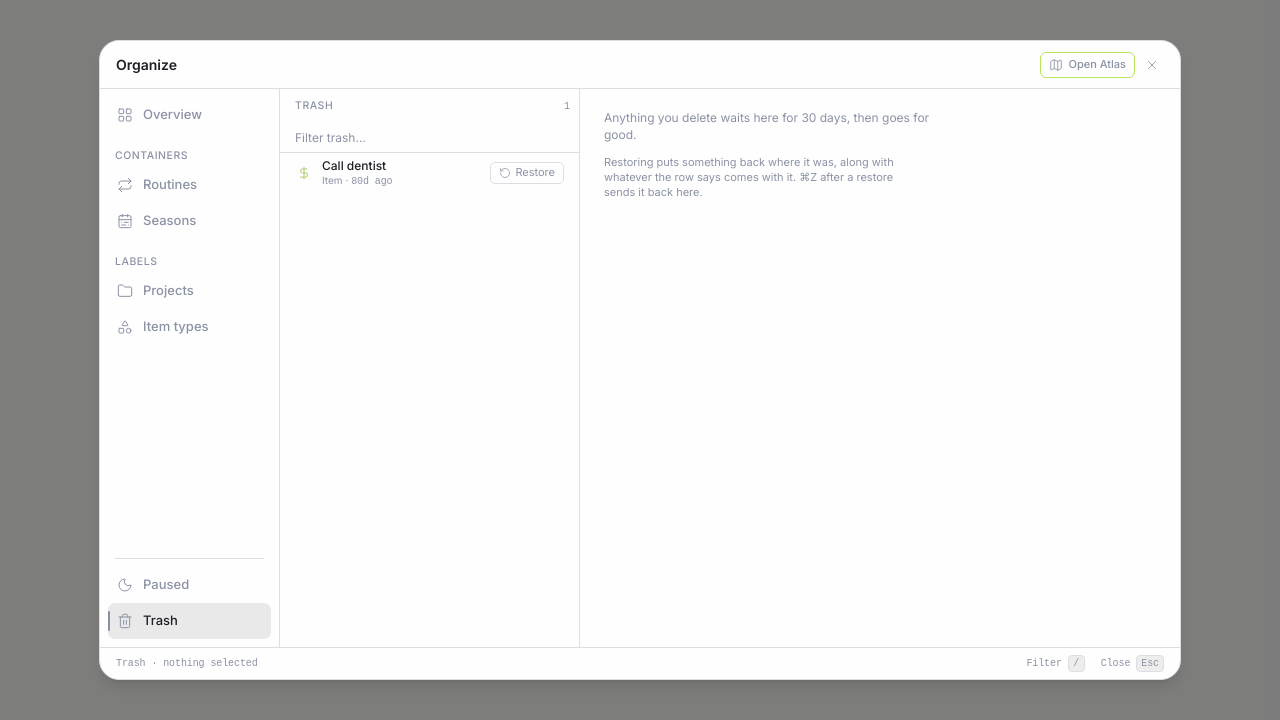
Test case: the Trash preview › opens a READ-ONLY preview when a row is selected
Click the button with test id "trash-select": (388, 172) x1=295 y1=157 x2=481 y2=188
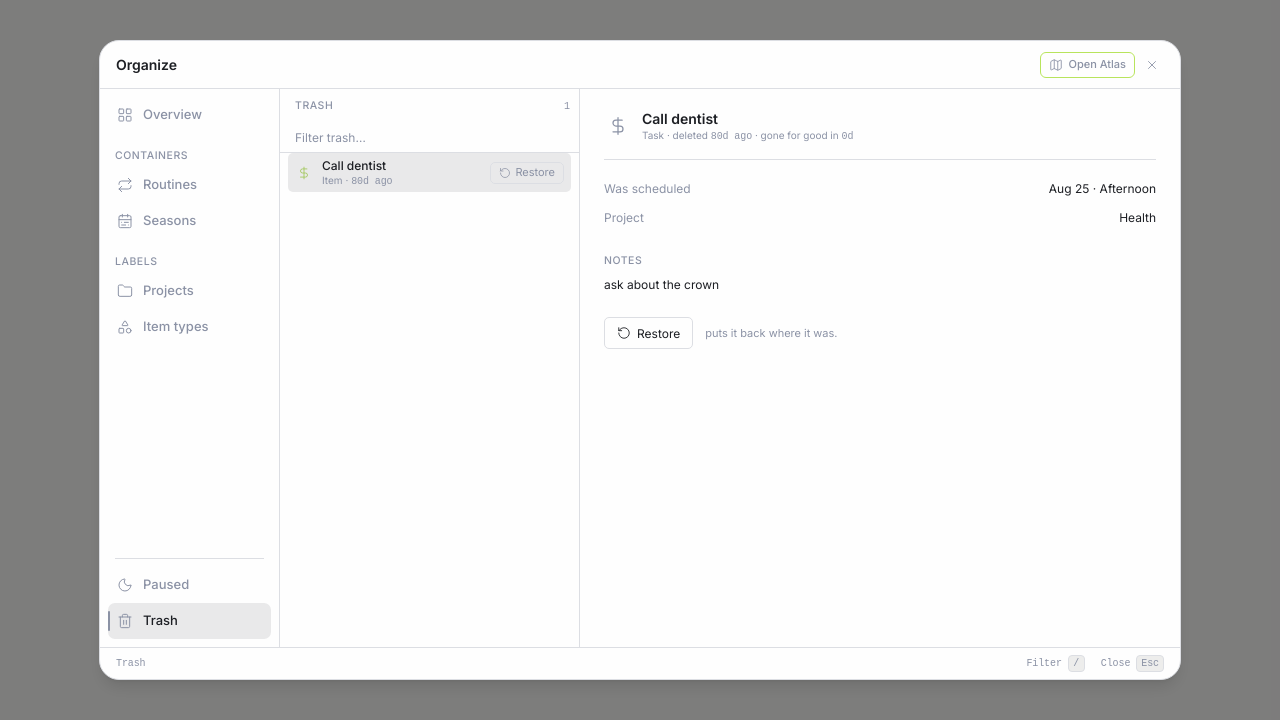
Expected: the element with test id "trash-preview" shows "Call dentist", x1=642 y1=110 x2=718 y2=127
Expected: the element with test id "trash-preview" shows "Task", x1=642 y1=129 x2=664 y2=141
Expected: the element with test id "trash-preview" shows "Health", x1=1119 y1=210 x2=1156 y2=225
